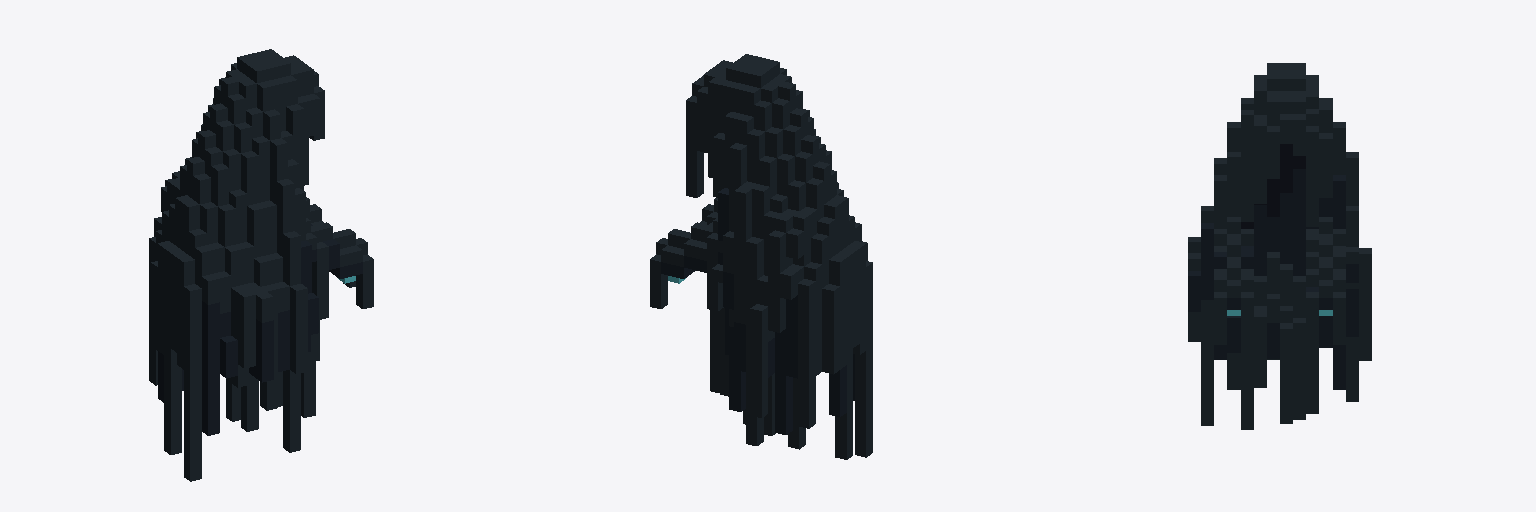
3 views of the same model, side by side, from view 1: azimuth 30°, elevation 25°; view 2: azimuth 150°, elevation 25°; view 3: azimuth 270°, elevation 25° (orthographic).
Visible parts, largest first — view 1: Character_Enemy; view 2: Character_Enemy; view 3: Character_Enemy.
Boxes of the visible parts, <box> form: Character_Enemy: <box>149,49,373,481</box>; Character_Enemy: <box>650,54,872,459</box>; Character_Enemy: <box>1188,63,1371,429</box>.
Size of the model in its own units: 15 by 32 by 14.
1 materials, 1 textured.